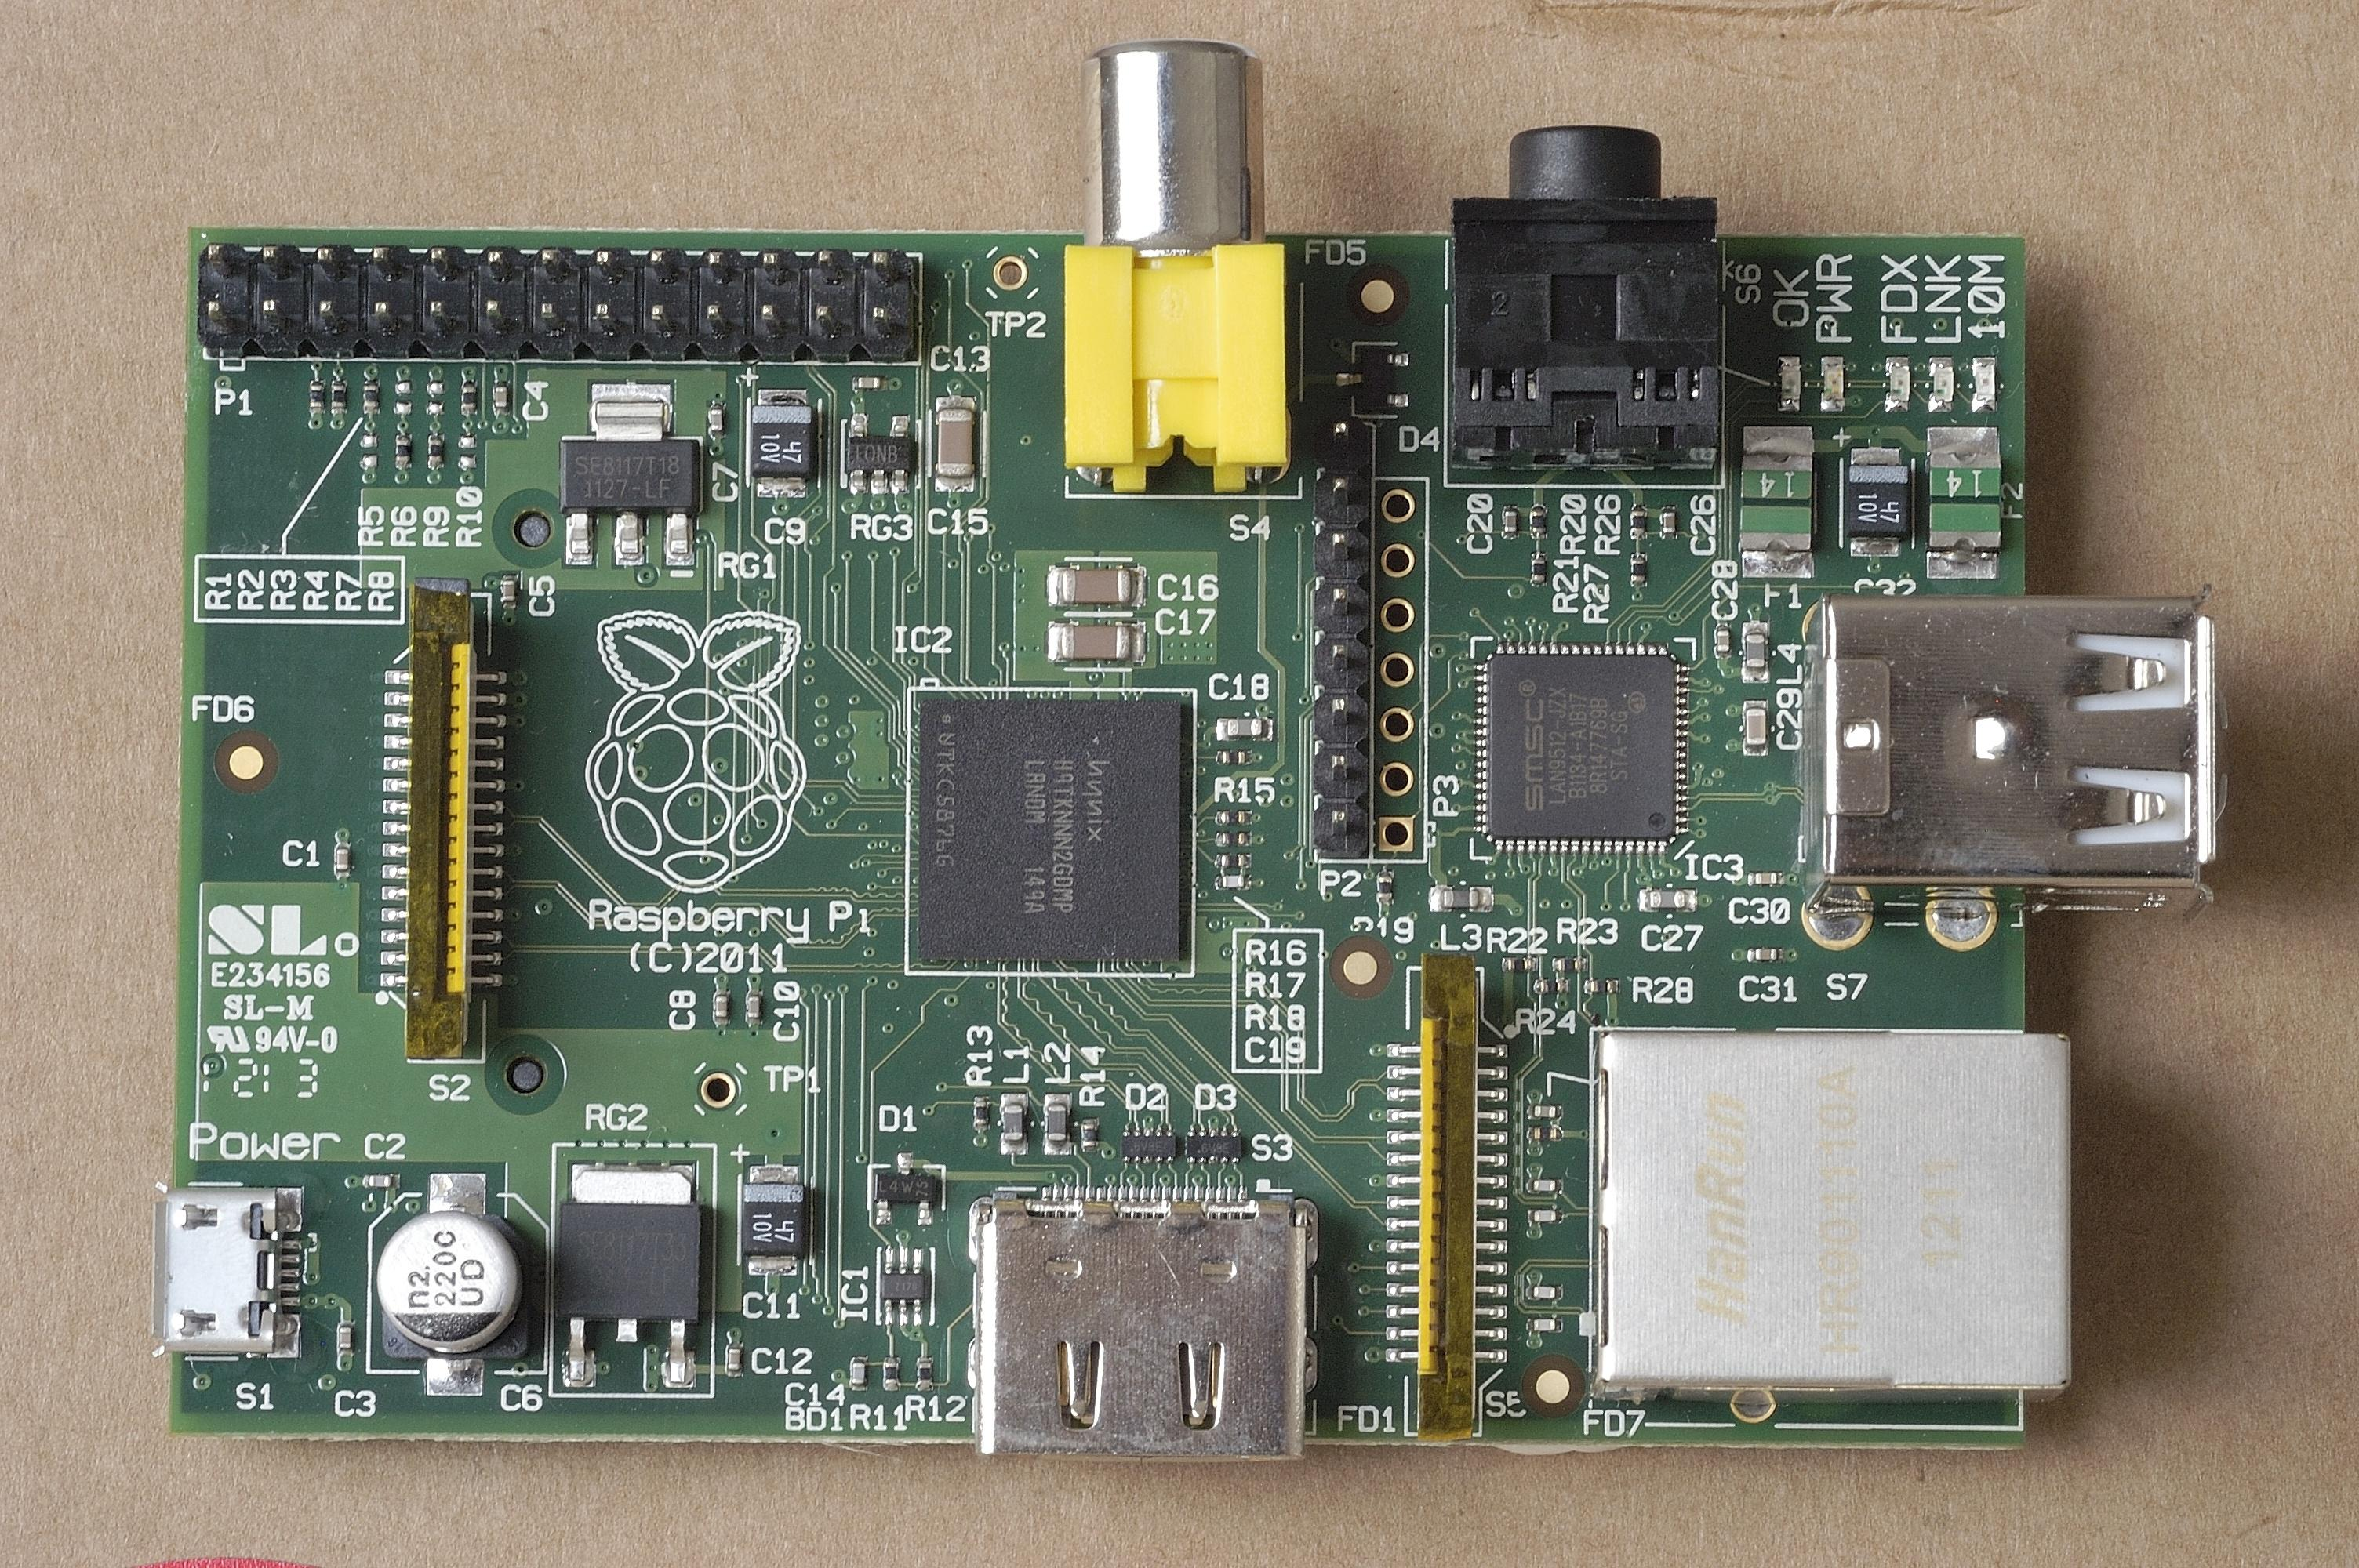audiojack: (1050, 44, 1292, 488)
bchi: (898, 691, 1206, 976)
ethernet: (1596, 1032, 2079, 1400)
gpio: (205, 245, 922, 367)
